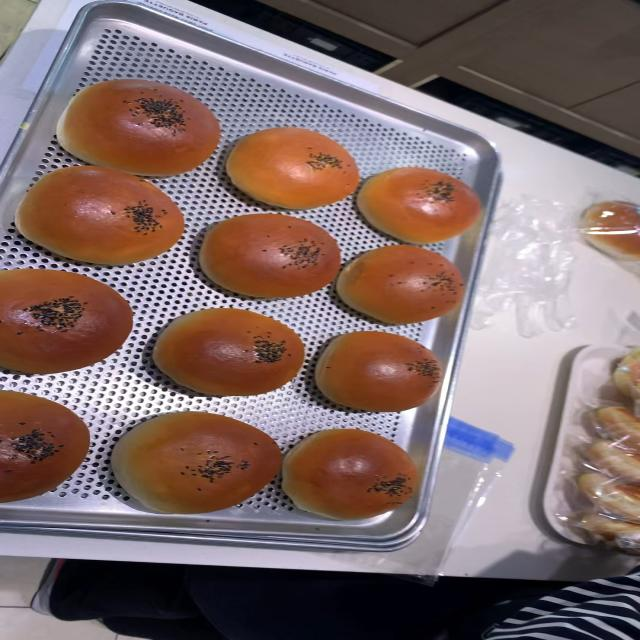bread: (112, 412, 305, 514), (14, 168, 188, 262), (268, 424, 432, 522), (0, 267, 138, 378), (57, 84, 220, 175), (148, 305, 303, 397), (194, 212, 341, 300), (223, 126, 360, 211), (312, 329, 448, 412), (356, 158, 483, 246), (338, 244, 466, 327)
